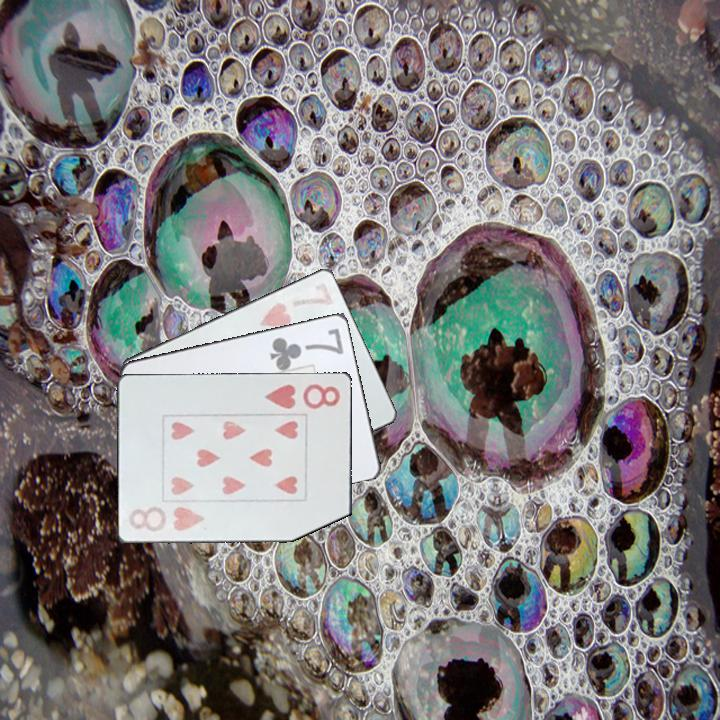7c: (266, 324, 347, 370)
7h: (256, 278, 337, 330)
8h: (261, 380, 343, 412), (125, 503, 207, 534)
